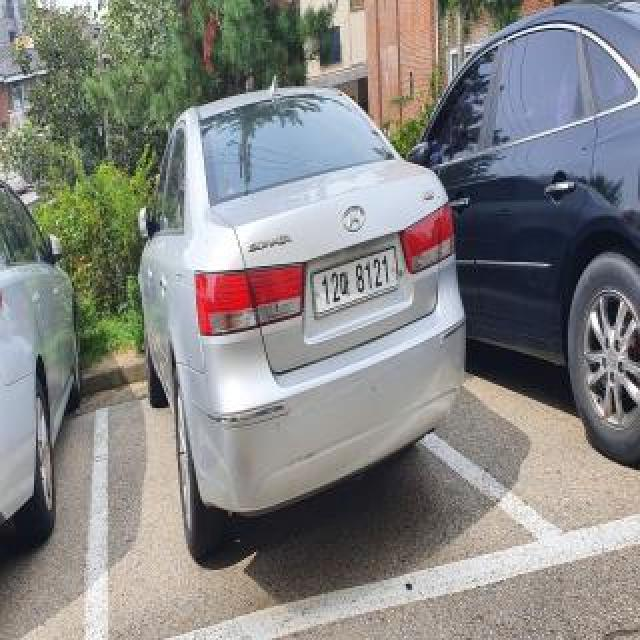car: (128, 74, 476, 577)
illegal_plate: (309, 234, 407, 330)
